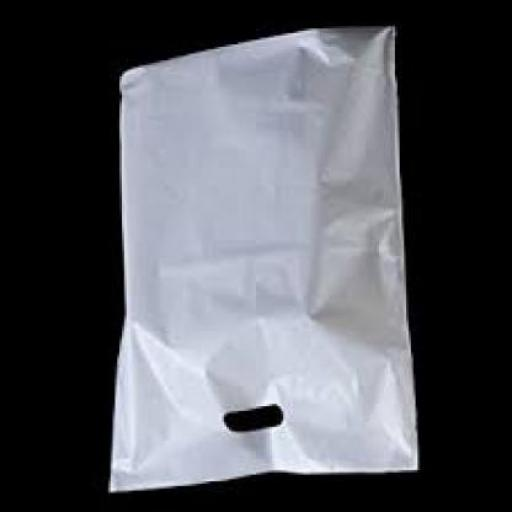plastic: (104, 27, 414, 496)
